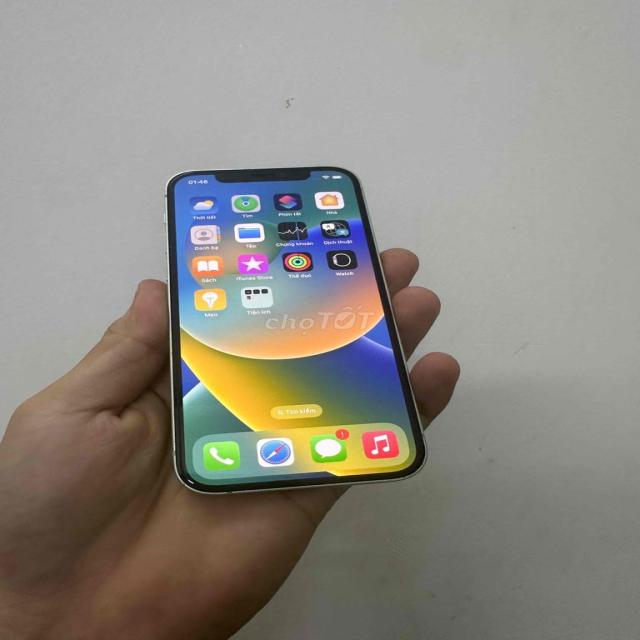gen_12_13: (160, 162, 429, 488)
